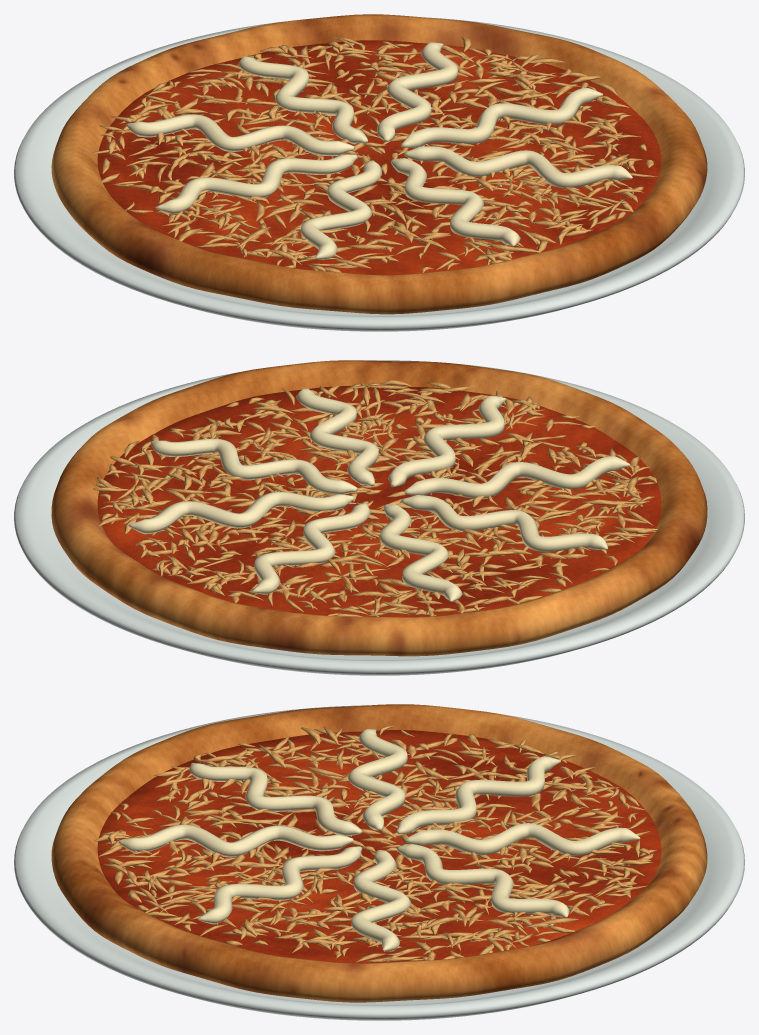
Rendered from pizza_frango_catupiry_35cm_draco.glb.
3 renders of one model, top to bottom at view 1: azimuth 30°, elevation 25°; view 2: azimuth 150°, elevation 25°; view 3: azimuth 270°, elevation 25°, orthographic.
Visible parts, largest first — view 1: Massa • diâmetro exato 350 mm, Molho de tomate, Frango desfiado, Prato • 390 mm, Catupiry • oito faixas artesanais; view 2: Massa • diâmetro exato 350 mm, Molho de tomate, Frango desfiado, Prato • 390 mm, Catupiry • oito faixas artesanais; view 3: Massa • diâmetro exato 350 mm, Molho de tomate, Frango desfiado, Prato • 390 mm, Catupiry • oito faixas artesanais.
Part boxes in pixels (x1,y1,x2,y2): Massa • diâmetro exato 350 mm: [51, 14, 707, 314]; Molho de tomate: [97, 40, 661, 275]; Frango desfiado: [91, 37, 657, 272]; Prato • 390 mm: [14, 17, 744, 331]; Catupiry • oito faixas artesanais: [126, 42, 632, 259]; Massa • diâmetro exato 350 mm: [51, 360, 707, 656]; Molho de tomate: [97, 386, 661, 617]; Frango desfiado: [93, 380, 657, 616]; Prato • 390 mm: [14, 360, 744, 675]; Catupiry • oito faixas artesanais: [128, 388, 630, 601]; Massa • diâmetro exato 350 mm: [51, 704, 707, 1002]; Molho de tomate: [97, 730, 661, 963]; Frango desfiado: [94, 726, 657, 962]; Prato • 390 mm: [14, 705, 744, 1020]; Catupiry • oito faixas artesanais: [118, 729, 640, 951].
Size of the model in its own units: 0.39 by 0.0299 by 0.39.
4 materials, 2 textured.
